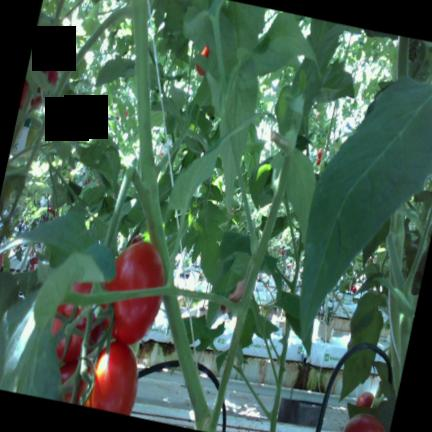6kp_peduncle: (106, 139, 164, 241)
6kp_petiole: (139, 125, 186, 230), (86, 0, 148, 48)
MainStem: (213, 151, 295, 424), (134, 0, 170, 284), (164, 296, 216, 432), (270, 319, 290, 432), (388, 292, 400, 398)
tomato: (105, 241, 164, 344), (52, 282, 104, 371), (90, 341, 138, 414), (60, 360, 87, 404), (342, 413, 385, 432), (195, 45, 209, 76), (42, 59, 58, 84), (356, 392, 374, 407)
